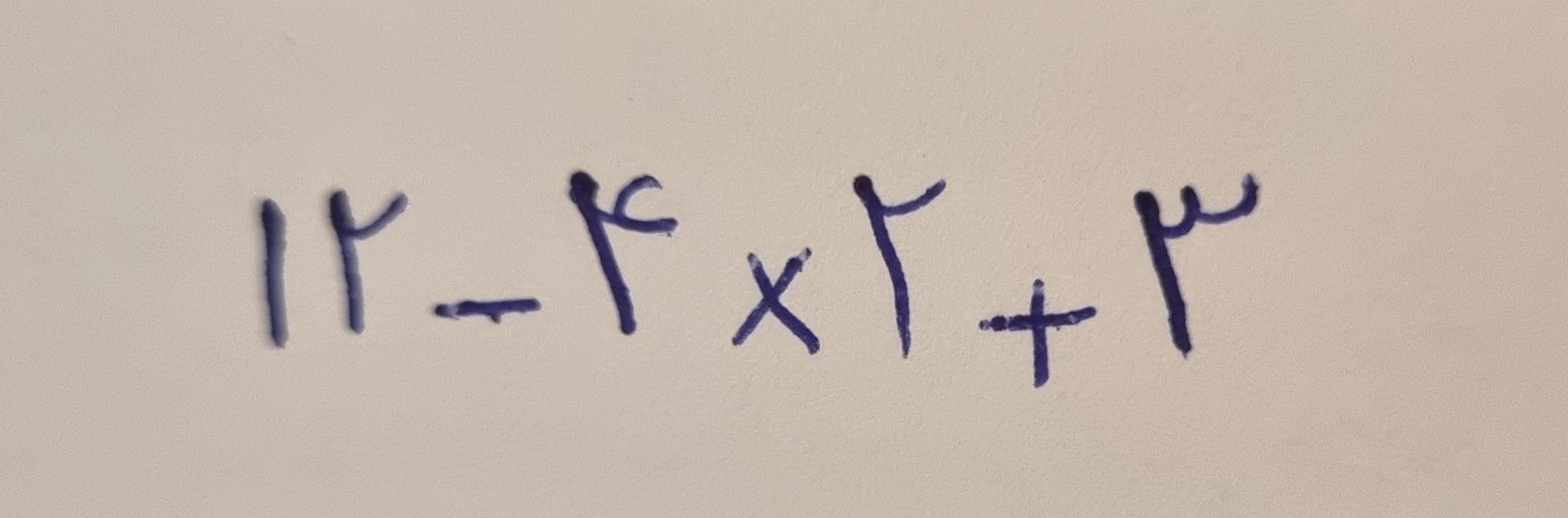character: (1132, 171, 1261, 360), (563, 169, 678, 337), (851, 172, 948, 360), (977, 280, 1099, 390), (327, 191, 409, 333), (730, 248, 823, 357), (255, 199, 291, 348), (429, 295, 541, 325)
